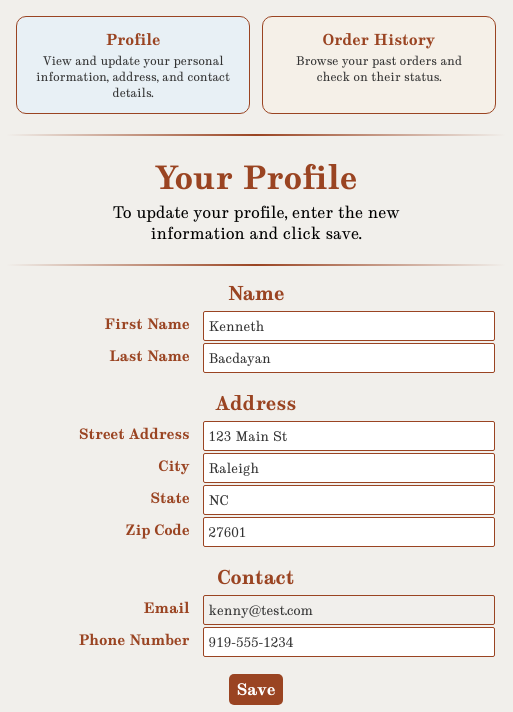
Test: Profile Page › shows direct backend field errors when fields object is absent
This screenshot has width=513, height=712.
Expected: the field labelled "First Name" is shown, x1=203 y1=311 x2=495 y2=341
Step 1. Click the button "Save" → (256, 690), box x1=228 y1=674 x2=284 y2=705
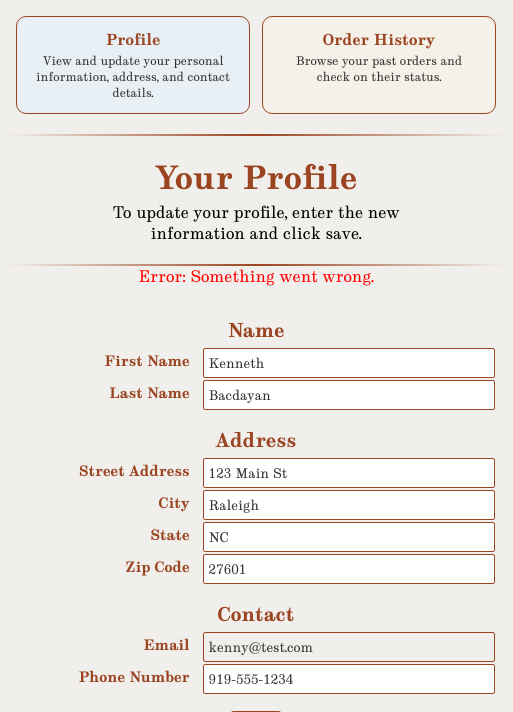
Result: the text "Error: Something went wrong." is shown at x1=138 y1=266 x2=374 y2=287
